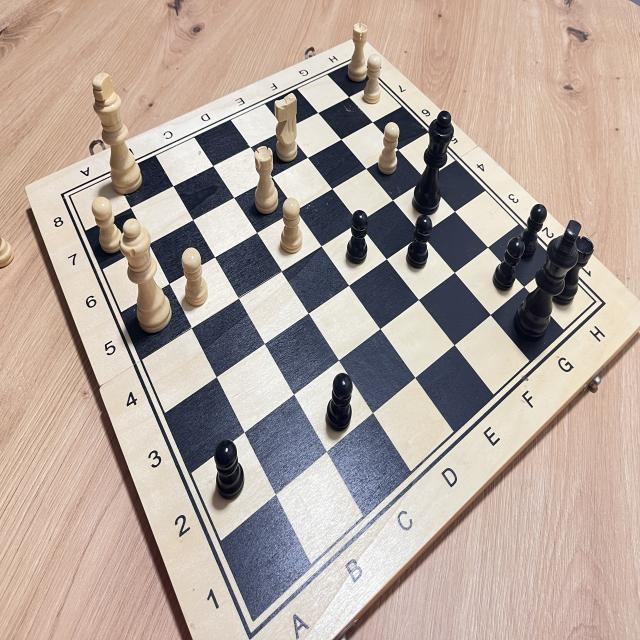black-king: (508, 210, 584, 350)
black-pawn: (507, 196, 554, 268), (207, 433, 250, 508), (321, 369, 360, 442), (490, 230, 529, 300), (402, 210, 435, 276), (341, 206, 374, 268)
black-queen: (410, 103, 458, 221)
black-rook: (553, 230, 598, 310)
white-king: (88, 68, 148, 202)
white-knight: (268, 88, 307, 166)
white-pawn: (87, 192, 132, 264), (175, 244, 213, 309), (277, 192, 309, 262), (375, 118, 406, 182), (360, 50, 389, 108)
white-queen: (117, 211, 177, 343)
white-rook: (246, 140, 288, 226), (341, 16, 378, 92)
